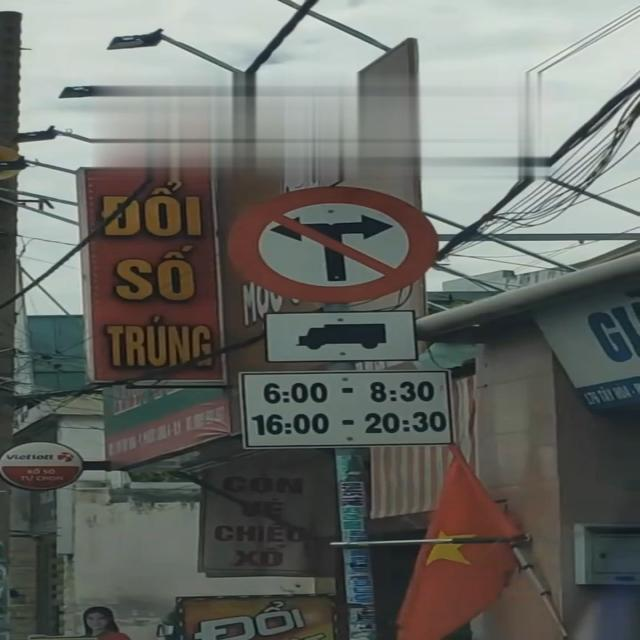137-cam-re-trai-va-re-phai: (228, 183, 438, 302)
